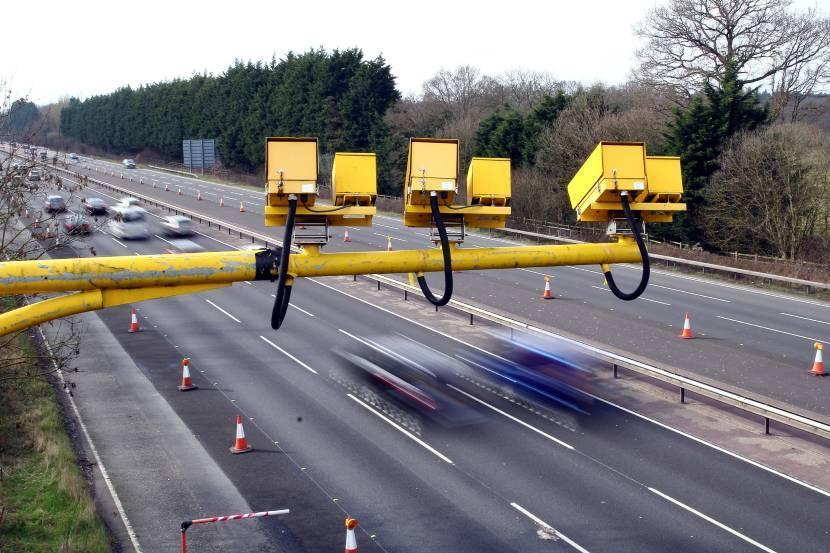Speed-Camera: (257, 129, 383, 236), (561, 130, 693, 231), (400, 129, 517, 237)
